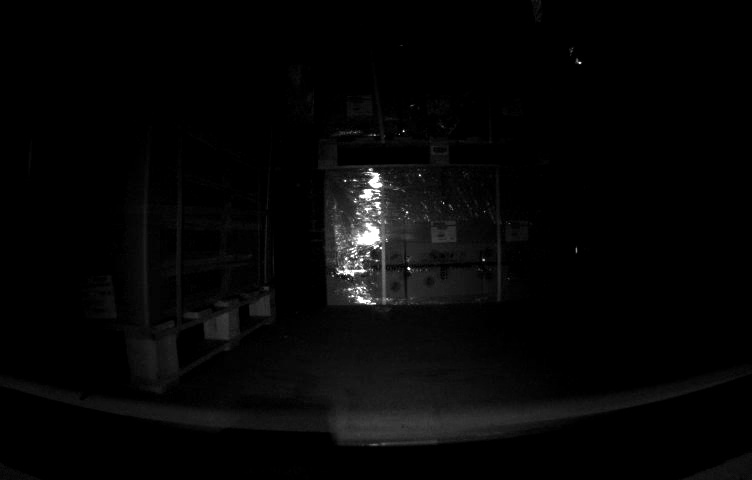True Barcode: (82, 277, 118, 316)
